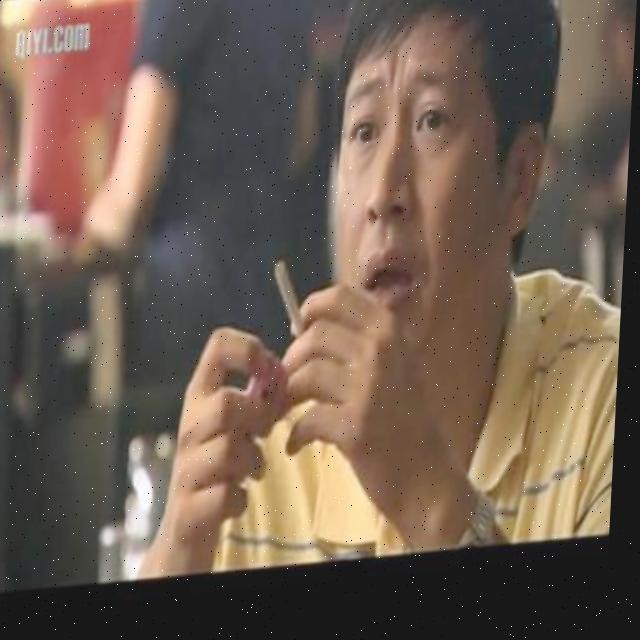cigarette: (272, 260, 311, 348)
